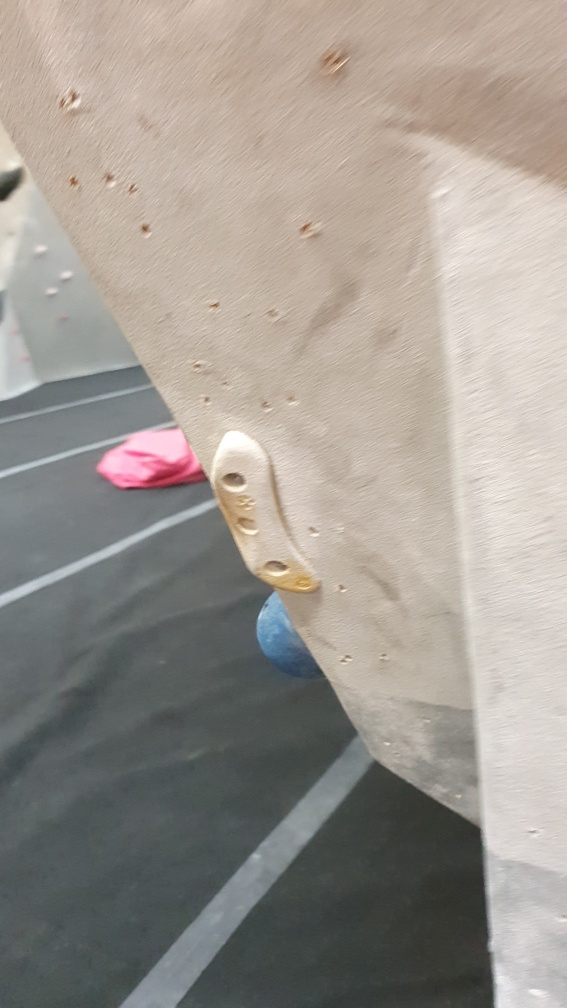Crimp: (206, 428, 323, 591)
